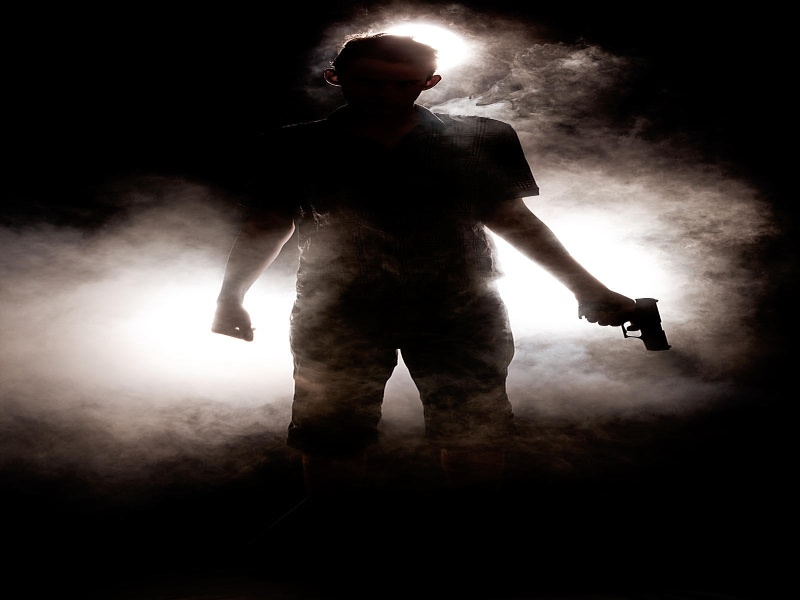gun: (579, 285, 676, 353)
